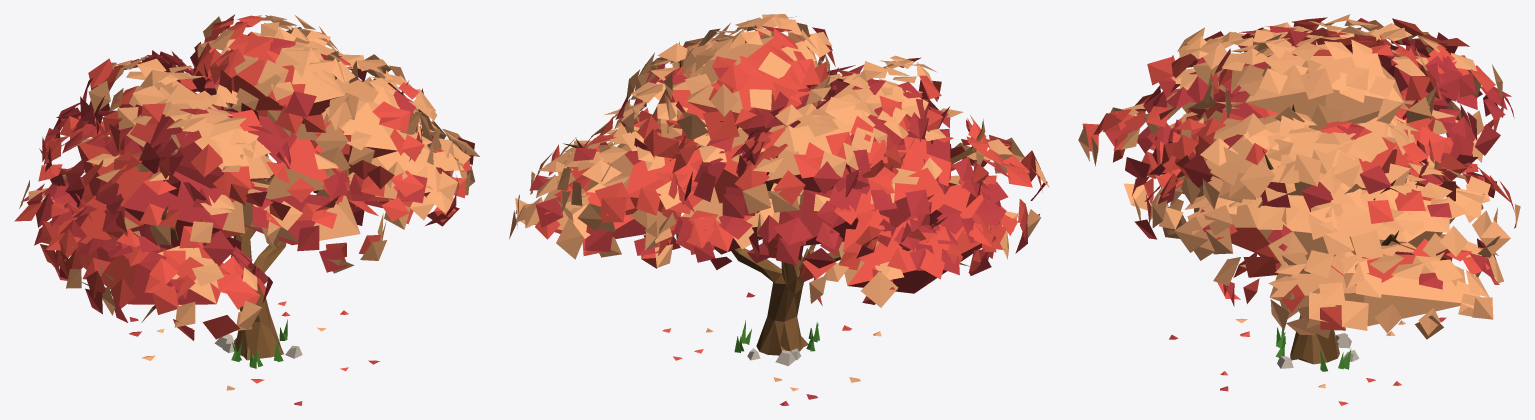
The model's file is cherry_1_autumn.glb.
The picture shows the model from 3 angles, left to right: view 1: azimuth 30°, elevation 25°; view 2: azimuth 150°, elevation 25°; view 3: azimuth 270°, elevation 25°; orthographic projection. The views are drawn at different scales.
Parts seen in each view (by area): view 1: cherry_1_autumn; view 2: cherry_1_autumn; view 3: cherry_1_autumn.
Boxes of the visible parts, left/top/right/bottom form: cherry_1_autumn: left=14, top=14, right=479, bottom=405; cherry_1_autumn: left=509, top=14, right=1049, bottom=405; cherry_1_autumn: left=1078, top=14, right=1520, bottom=405.
Size of the model in its own units: 10.37 by 7.13 by 8.61.
